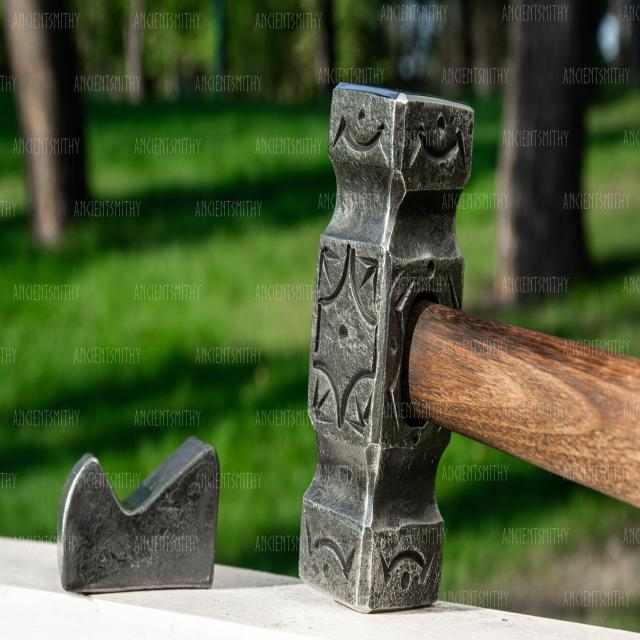hammer: (295, 70, 640, 614)
